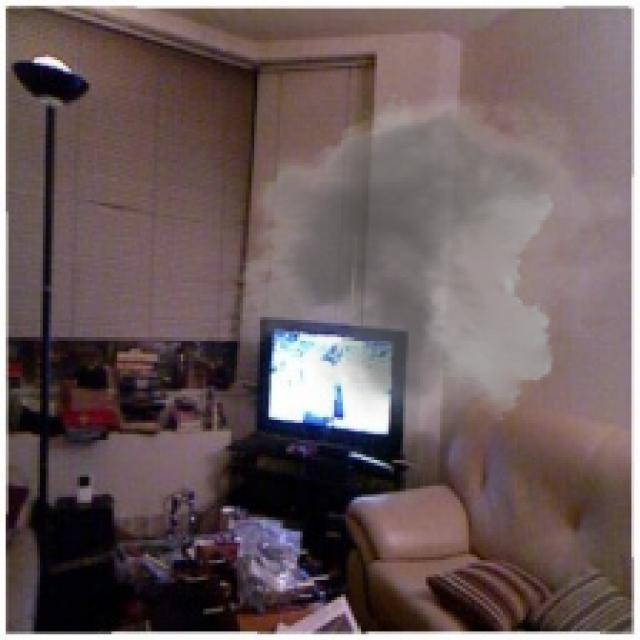smoke: (214, 80, 637, 437)
